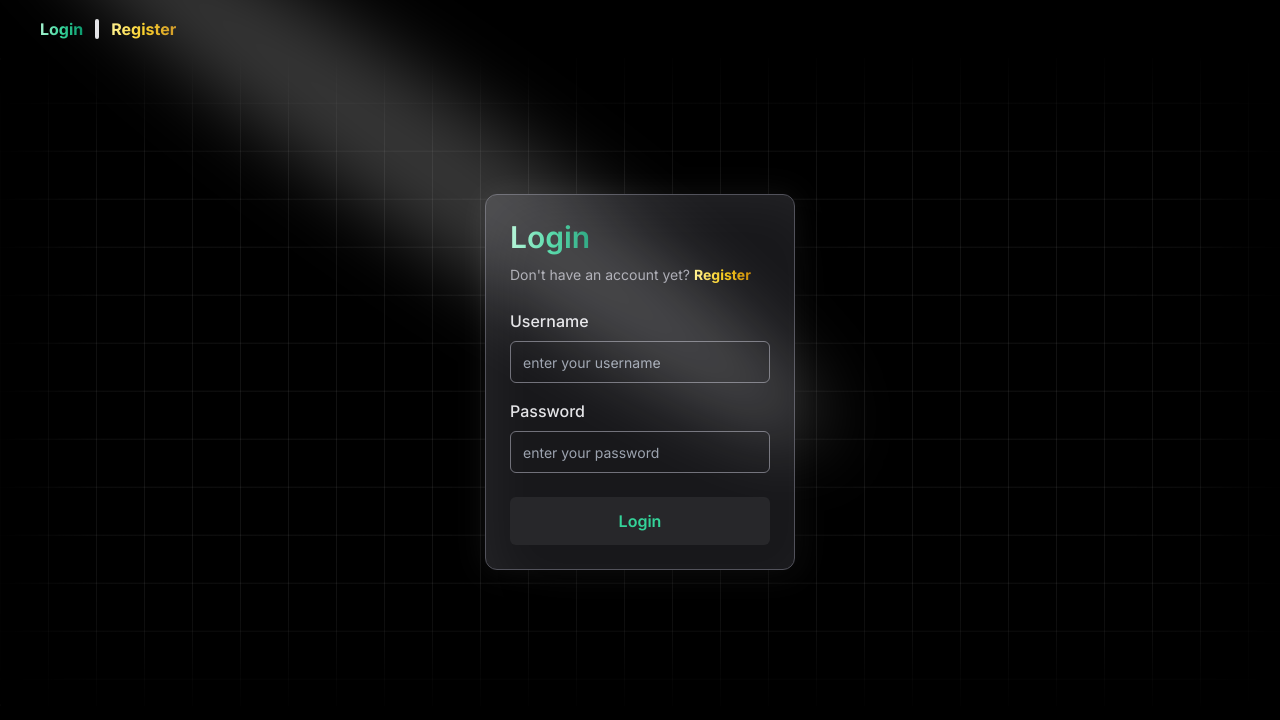
Test: Login Test in UI › Password must be at least 8 characters long
This screenshot has width=1280, height=720.
Type "0000000" into the field named "username". click: (640, 362)
box: [510,341,770,383]
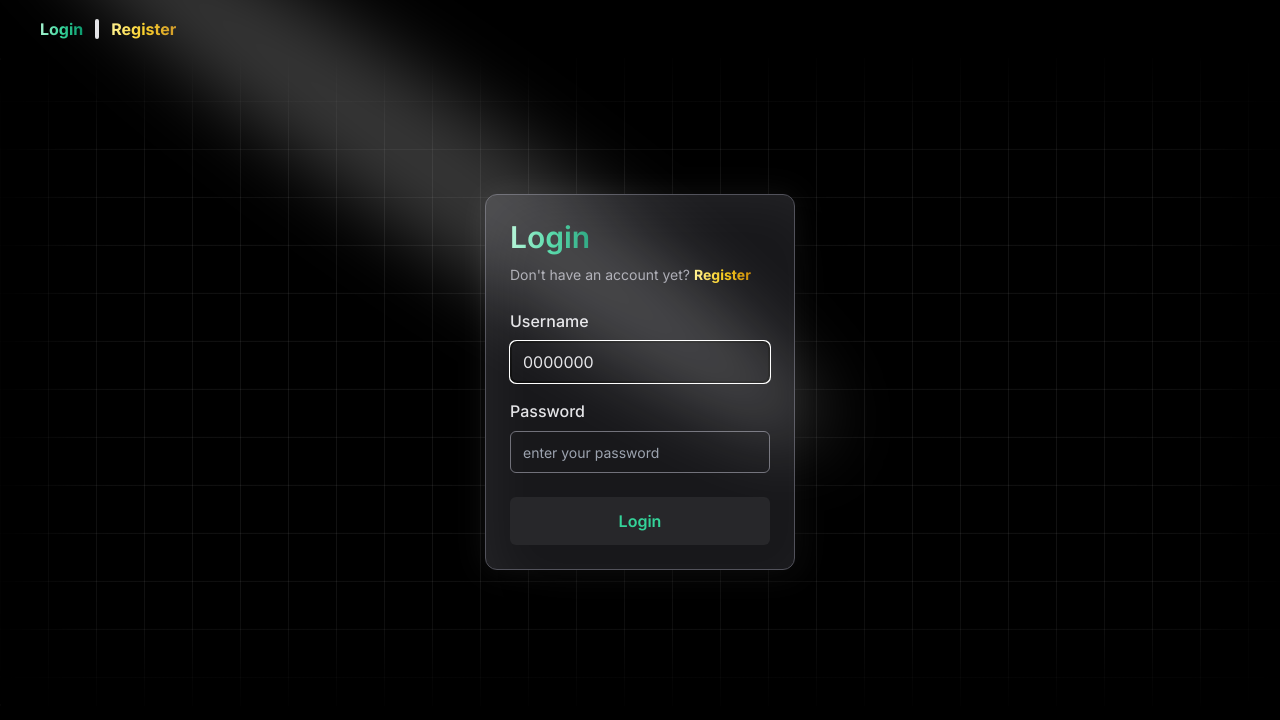
Type "0000000" into the password field named "password". click: (640, 452)
box: [510,431,770,473]
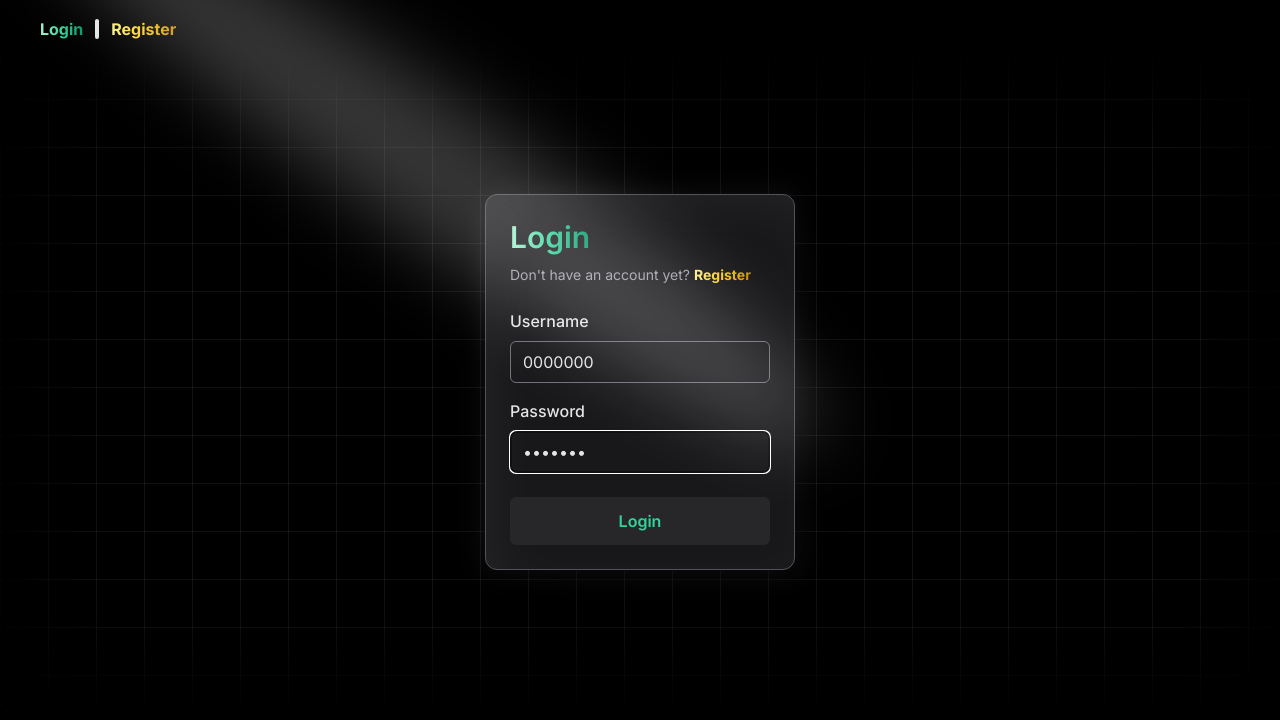
Click the button with test id "login-btn". click: (640, 521)
box: [510,497,770,545]
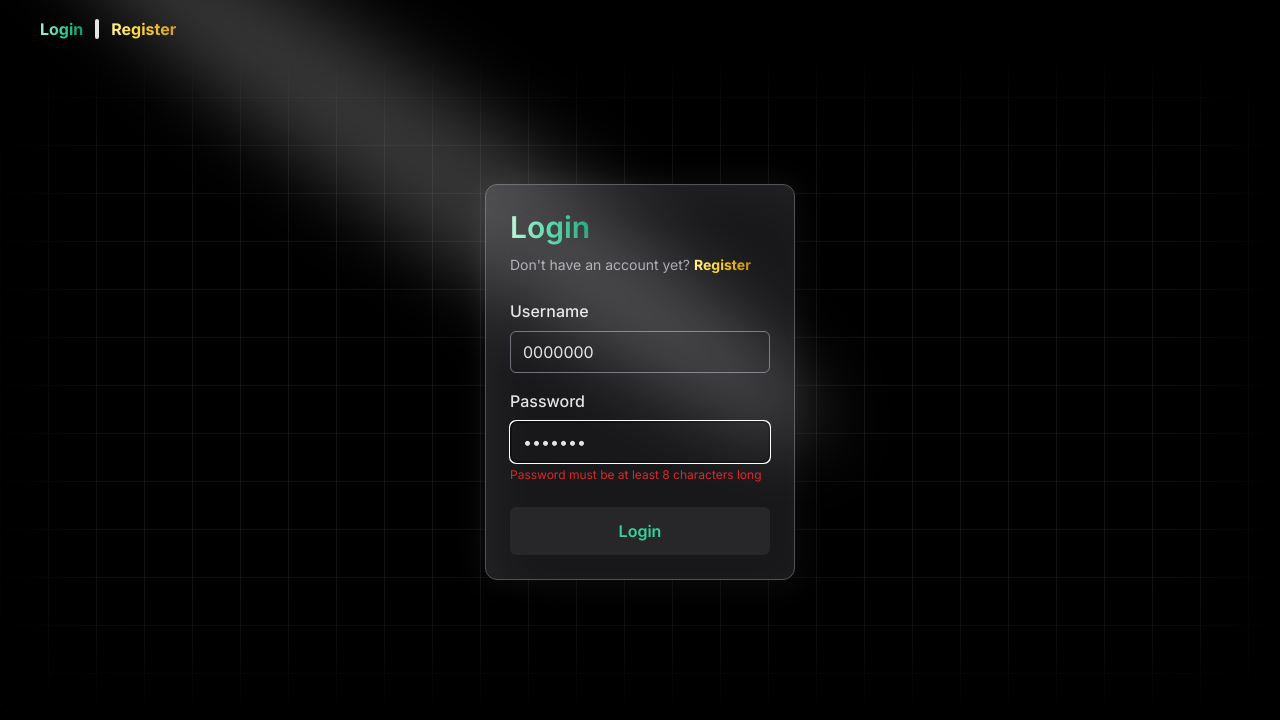
Expected: the text "Password must be at least 8 characters long" is shown, [510,467,770,483]
